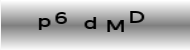6: (53, 11, 68, 25)
D: (128, 10, 146, 24)
M: (105, 19, 125, 33)
d: (83, 16, 98, 30)
p: (37, 17, 51, 31)
